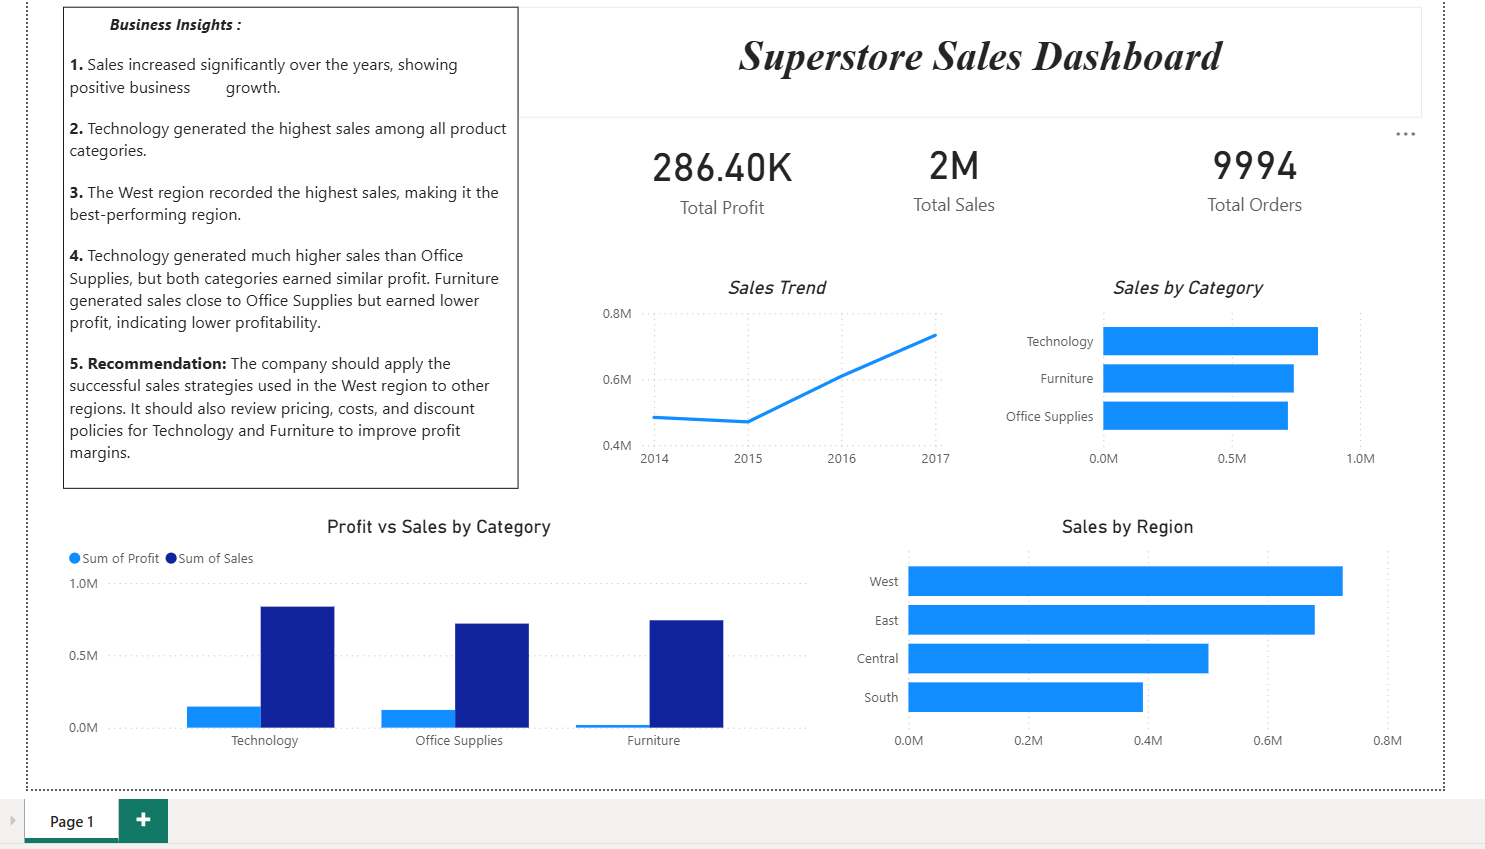

The page's visual inventory and layout, read from the dashboard file:
{"tool":"powerbi","page":{"name":"Page 1","canvas":[1280,720],"ordinal":0},"visuals":[{"type":"lineChart","title":"Sales Trend","fields":{"Y":["Sum(Sample - Superstore.Sales)"],"Category":["Sample - Superstore.Order Date.Variation.Date Hierarchy.Year","Sample - Superstore.Order Date.Variation.Date Hierarchy.Quarter","Sample - Superstore.Order Date.Variation.Date Hierarchy.Month","Sample - Superstore.Order Date.Variation.Date Hierarchy.Day"]},"box":[514,257,324.4,182.6],"z":0},{"type":"clusteredBarChart","title":" Sales by Category","fields":{"Category":["Sample - Superstore.Category"],"Y":["Sum(Sample - Superstore.Sales)"]},"box":[873.3,257,351.2,182.6],"z":1000},{"type":"clusteredColumnChart","title":"Profit vs Sales by Category","fields":{"Category":["Sample - Superstore.Category"],"Y":["Sum(Sample - Superstore.Profit)","Sum(Sample - Superstore.Sales)"]},"box":[31.4,472.1,680.2,222.1],"z":2000},{"type":"clusteredBarChart","title":"Sales by Region","fields":{"Category":["Sample - Superstore.Region"],"Y":["Sum(Sample - Superstore.Sales)"]},"box":[740.7,472.1,508.1,222.1],"z":3000},{"type":"card","fields":{"Values":["Sum(Sample - Superstore.Sales)"]},"box":[711.2,111.9,253.3,101.8],"z":4000},{"type":"card","fields":{"Values":["Sum(Sample - Superstore.Profit)"]},"box":[514.4,111.9,227.3,106.3],"z":5000},{"type":"card","fields":{"Values":["CountNonNull(Sample - Superstore.Order ID)"]},"box":[995,111.9,229.5,101.8],"z":6000},{"type":"textbox","box":[443.2,12.3,817.8,100.2],"z":6001},{"type":"textbox","box":[31.4,12.8,411.6,436],"z":6002}]}

Visuals, with their boxes on the page's 1280x720 design canvas (x1, y1, x2, y2). These are canvas units, not pixel positions in the 1485x849 screenshot, which may show the page scaled, cropped or inside an application window:
"Sales Trend" lineChart: (left=514, top=257, right=838, bottom=440)
" Sales by Category" clusteredBarChart: (left=873, top=257, right=1224, bottom=440)
"Profit vs Sales by Category" clusteredColumnChart: (left=31, top=472, right=712, bottom=694)
"Sales by Region" clusteredBarChart: (left=741, top=472, right=1249, bottom=694)
card - Sum(Sample - Superstore.Sales): (left=711, top=112, right=964, bottom=214)
card - Sum(Sample - Superstore.Profit): (left=514, top=112, right=742, bottom=218)
card - CountNonNull(Sample - Superstore.Order ID): (left=995, top=112, right=1224, bottom=214)
textbox: (left=443, top=12, right=1261, bottom=112)
textbox: (left=31, top=13, right=443, bottom=449)
